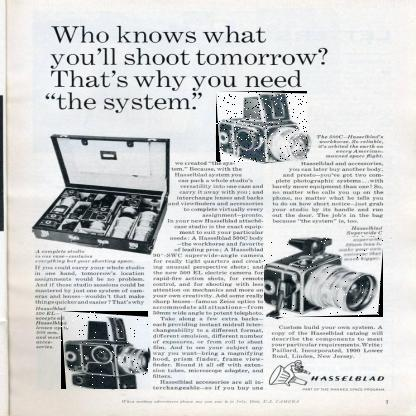Camera: (266, 238, 386, 319), (62, 312, 150, 391), (218, 92, 310, 164)
